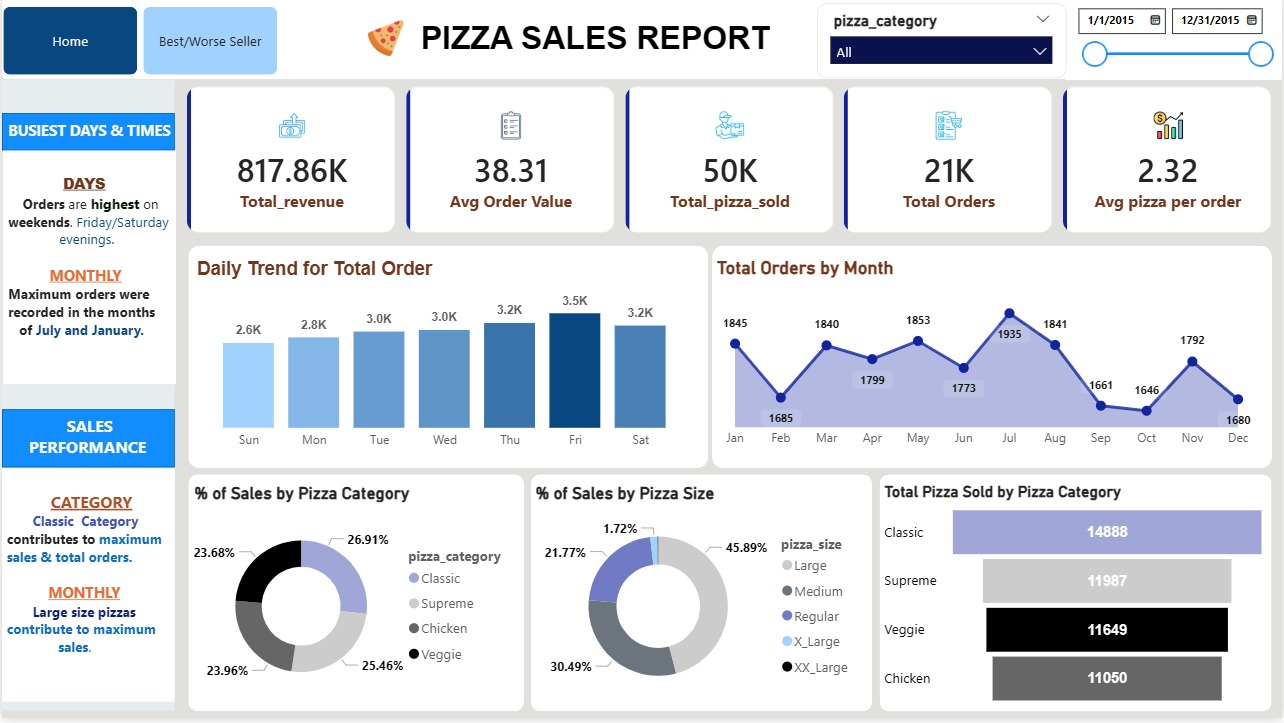

What the dashboard file says about the page in this screenshot:
{"tool":"powerbi","page":{"name":"Home","canvas":[1280,720],"ordinal":0},"visuals":[{"type":"shape","box":[185.7,247.1,520,222.9],"z":0},{"type":"cardVisual","fields":{"Data":["Measure.Total_revenue","Measure.Average Order Value","Measure.Total_pizza_sold","Measure.Total Orders","Measure.Average_pizza_per_order"]},"box":[185.2,83.5,1085.8,156.2],"z":1000},{"type":"shape","box":[0,0,1280,81.2],"z":2000},{"type":"shape","box":[0,81.4,172.9,631.4],"z":3000},{"type":"clusteredColumnChart","title":"Daily Trend for Total Order","fields":{"Category":["Cleandar_Table.day_name"],"Y":["Measure.Total Orders"]},"box":[190,260,506.2,200],"z":4000},{"type":"shape","box":[710,247.1,560,222.9],"z":5000},{"type":"areaChart","fields":{"Y":["Measure.Total Orders"],"Category":["Cleandar_Table.Month"]},"box":[710.6,259,549.6,199.7],"z":6000},{"type":"textbox","box":[414,16.9,400.7,53.3],"z":7000},{"type":"shape","box":[185.7,475.7,335.7,237.1],"z":8000},{"type":"shape","box":[877.6,475.7,392.2,237.3],"z":9000},{"type":"shape","box":[528.6,475.7,341.4,237.1],"z":10000},{"type":"donutChart","title":"% of Sales by Pizza Category","fields":{"Category":["pizza_sales.pizza_category"],"Y":["Measure.Total_revenue"]},"box":[187.6,485.4,331.7,227.6],"z":11000},{"type":"donutChart","title":"% of Sales by Pizza Size","fields":{"Y":["Measure.Total_revenue"],"Category":["pizza_sales.pizza_size"]},"box":[529,485.4,335.3,227.6],"z":12000},{"type":"funnel","title":"Total Pizza Sold by Pizza Category","fields":{"Category":["pizza_sales.pizza_category"],"Y":["Measure.Total_pizza_sold"]},"box":[877.6,485.4,392.2,227.6],"z":13000},{"type":"slicer","fields":{"Values":["Cleandar_Table.Date"]},"box":[1064.3,0,215.7,81.4],"z":14000},{"type":"image","box":[353.5,21.8,60.5,37.5],"z":16000},{"type":"shape","box":[0,115,173.1,37.5],"z":17000},{"type":"textbox","box":[1.2,152.5,173.1,233.6],"z":18000},{"type":"textbox","box":[1.2,117.4,173.1,35.1],"z":19000},{"type":"pageNavigator","box":[1.2,8.5,274.8,69],"z":20000},{"type":"shape","box":[0,411.6,173.1,58.1],"z":21000},{"type":"textbox","box":[1.2,411.6,173.1,69],"z":22000},{"type":"textbox","box":[0,469.7,173.1,233.6],"z":23000},{"type":"slicer","fields":{"Values":["pizza_sales.pizza_category"]},"box":[814.7,4.8,249.4,75.1],"z":23001}]}

Visuals, with their boxes in screenshot pixels (x1, y1, x2, y2), scaled from the page's 1280x720 canvas onto the 1284x723 screenshot:
shape: {"left": 186, "top": 248, "right": 708, "bottom": 472}
cardVisual - Measure.Total_revenue x Measure.Average Order Value: {"left": 186, "top": 84, "right": 1275, "bottom": 241}
shape: {"left": 0, "top": 0, "right": 1283, "bottom": 82}
shape: {"left": 0, "top": 82, "right": 173, "bottom": 716}
"Daily Trend for Total Order" clusteredColumnChart: {"left": 191, "top": 261, "right": 698, "bottom": 462}
shape: {"left": 712, "top": 248, "right": 1274, "bottom": 472}
areaChart - Measure.Total Orders x Cleandar_Table.Month: {"left": 713, "top": 260, "right": 1264, "bottom": 461}
textbox: {"left": 415, "top": 17, "right": 817, "bottom": 70}
shape: {"left": 186, "top": 478, "right": 523, "bottom": 716}
shape: {"left": 880, "top": 478, "right": 1274, "bottom": 716}
shape: {"left": 530, "top": 478, "right": 873, "bottom": 716}
"% of Sales by Pizza Category" donutChart: {"left": 188, "top": 487, "right": 521, "bottom": 716}
"% of Sales by Pizza Size" donutChart: {"left": 531, "top": 487, "right": 867, "bottom": 716}
"Total Pizza Sold by Pizza Category" funnel: {"left": 880, "top": 487, "right": 1274, "bottom": 716}
slicer - Cleandar_Table.Date: {"left": 1068, "top": 0, "right": 1283, "bottom": 82}
image: {"left": 355, "top": 22, "right": 415, "bottom": 60}
shape: {"left": 0, "top": 115, "right": 174, "bottom": 153}
textbox: {"left": 1, "top": 153, "right": 175, "bottom": 388}
textbox: {"left": 1, "top": 118, "right": 175, "bottom": 153}
pageNavigator: {"left": 1, "top": 9, "right": 277, "bottom": 78}
shape: {"left": 0, "top": 413, "right": 174, "bottom": 472}
textbox: {"left": 1, "top": 413, "right": 175, "bottom": 483}
textbox: {"left": 0, "top": 472, "right": 174, "bottom": 706}
slicer - pizza_sales.pizza_category: {"left": 817, "top": 5, "right": 1067, "bottom": 80}
